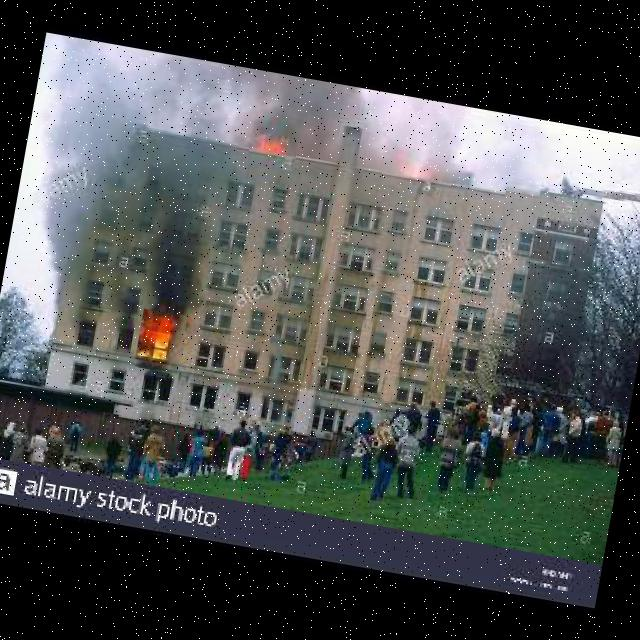fire: (380, 137, 457, 193), (246, 107, 302, 172), (133, 308, 187, 374)
